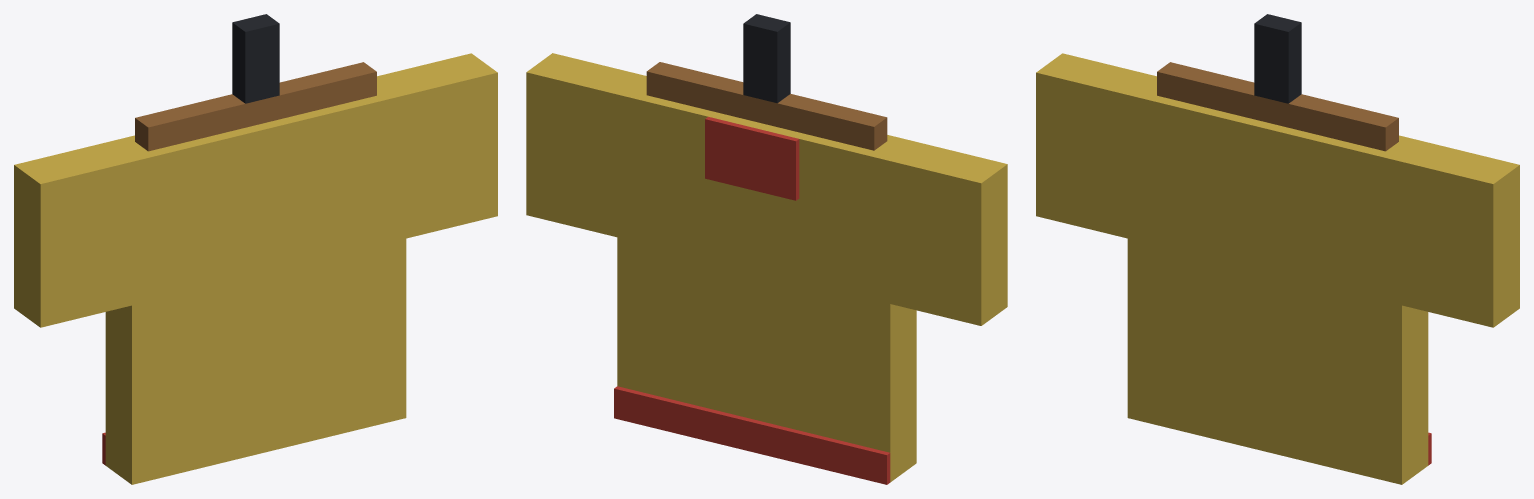
The model's file is cp-shirt-yellow.glb.
3 views of the same model, side by side, from view 1: azimuth 30°, elevation 25°; view 2: azimuth 150°, elevation 25°; view 3: azimuth 330°, elevation 25° (orthographic).
Visible parts, largest first — view 1: box-prop; view 2: box-prop; view 3: box-prop.
Part boxes in pixels (<box>): box-prop: <box>14,14,497,484</box>; box-prop: <box>526,14,1007,484</box>; box-prop: <box>1036,14,1519,484</box>.
Size of the model in its own units: 0.8 by 0.7 by 0.09.
